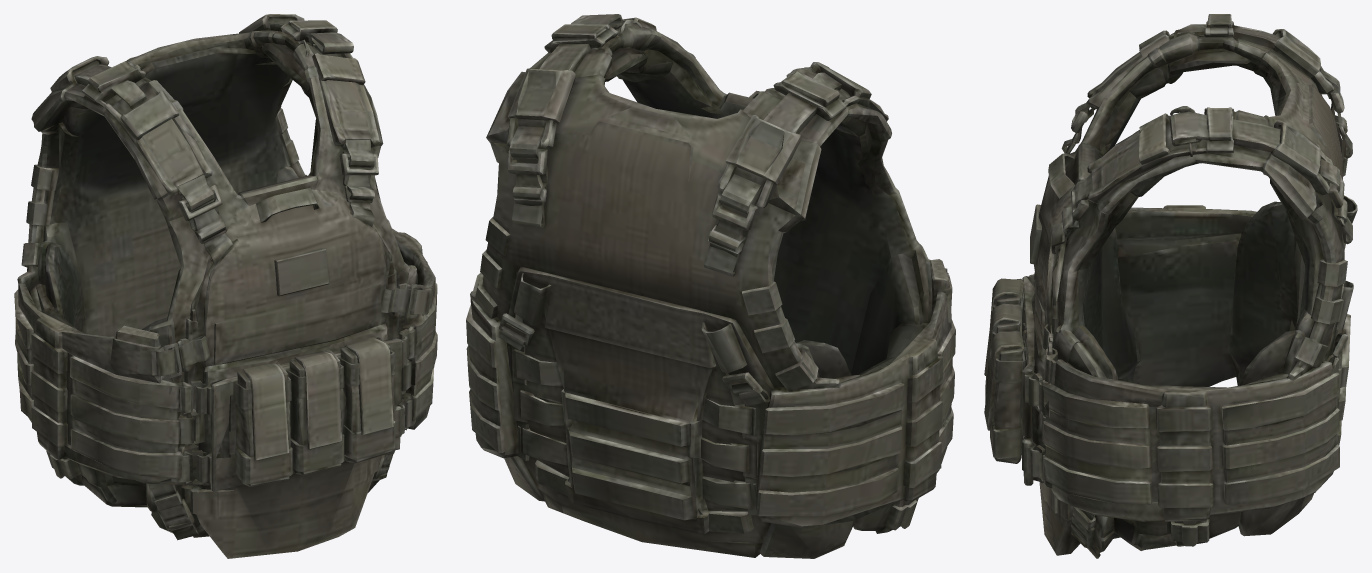
File: vest.glb
3 renders of one model, left to right at view 1: azimuth 30°, elevation 25°; view 2: azimuth 150°, elevation 25°; view 3: azimuth 270°, elevation 25°, orthographic. The views are drawn at different scales.
Visible parts, largest first — view 1: Object_4; view 2: Object_4; view 3: Object_4.
Boxes of the visible parts, left/top/right/bottom form: Object_4: left=14, top=14, right=437, bottom=558; Object_4: left=466, top=14, right=955, bottom=558; Object_4: left=984, top=14, right=1357, bottom=558.
Bounding box in the file's own units: 0.4807 × 0.55 × 0.4006.
1 material, 1 textured.
